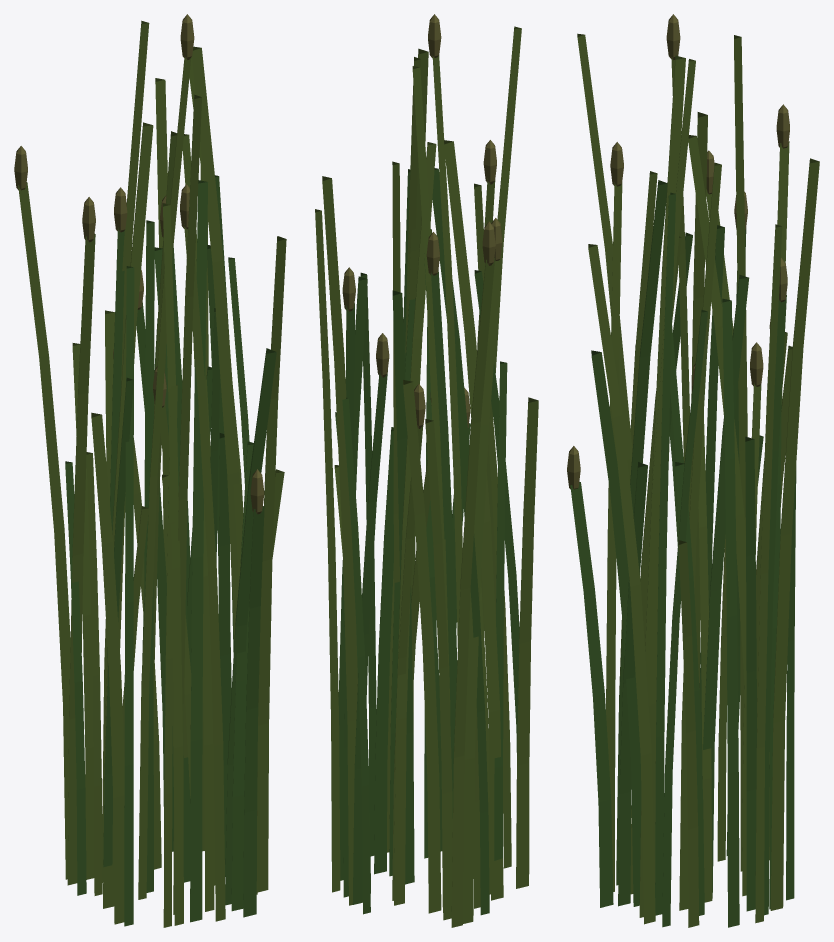
The model's file is wet_sedge_v2.glb.
3 views of the same model, side by side, from view 1: azimuth 30°, elevation 25°; view 2: azimuth 150°, elevation 25°; view 3: azimuth 270°, elevation 25° (orthographic). The views are drawn at different scales.
Visible parts, largest first — view 1: wet_sedge_v2; view 2: wet_sedge_v2; view 3: wet_sedge_v2.
Part boxes in pixels (left/top/right/bottom): wet_sedge_v2: left=14, top=14, right=286, bottom=927; wet_sedge_v2: left=315, top=14, right=538, bottom=927; wet_sedge_v2: left=567, top=14, right=819, bottom=927.
Bounding box in the file's own units: 0.2082 × 0.8057 × 0.2102.
